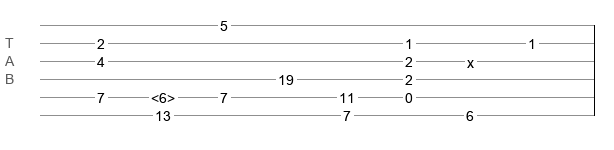0: (405, 90, 413, 100)
1: (405, 36, 413, 46), (528, 36, 536, 46)
11: (339, 90, 355, 100)
13: (155, 108, 171, 118)
19: (278, 72, 294, 82)
2: (97, 36, 105, 46), (405, 72, 413, 82), (405, 54, 413, 64)
4: (97, 54, 105, 64)
5: (220, 18, 228, 28)
6: (466, 108, 474, 118)
7: (97, 90, 105, 100), (220, 90, 228, 100), (343, 108, 351, 118)
harmonic: (151, 90, 175, 100)
x: (467, 55, 474, 63)
